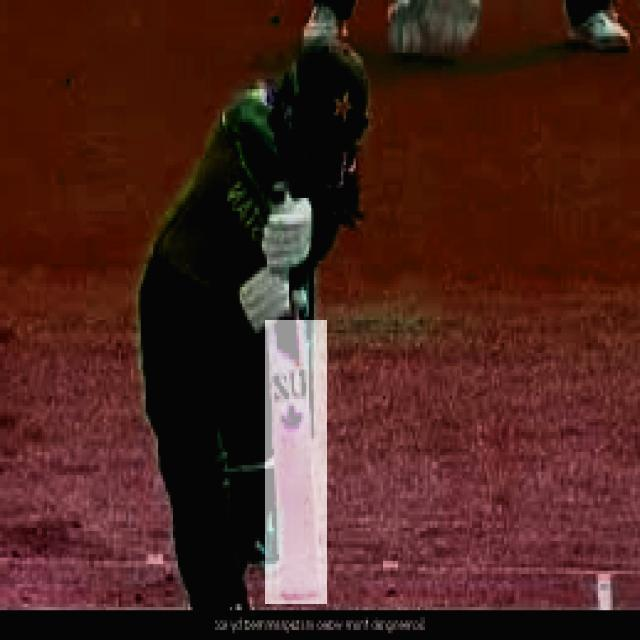bat: (261, 321, 328, 604)
toe: (276, 586, 321, 601)
